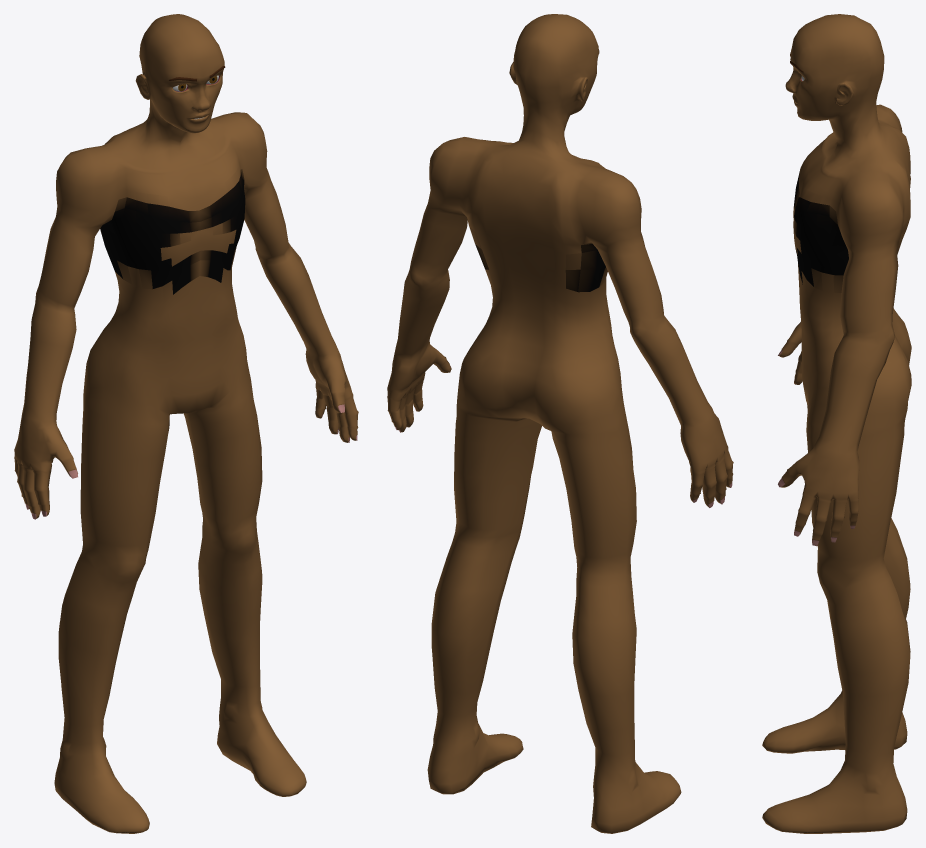
File: basemesh-male.fbx
3 views of the same model, side by side, from view 1: azimuth 30°, elevation 25°; view 2: azimuth 150°, elevation 25°; view 3: azimuth 270°, elevation 25° (orthographic).
Visible parts, largest first — view 1: Body; view 2: Body; view 3: Body.
Part boxes in pixels (<box>): Body: <box>14,14,358,833</box>; Body: <box>387,14,733,833</box>; Body: <box>762,14,911,833</box>.
Bounding box in the file's own units: 79.91 × 180 × 31.83.
